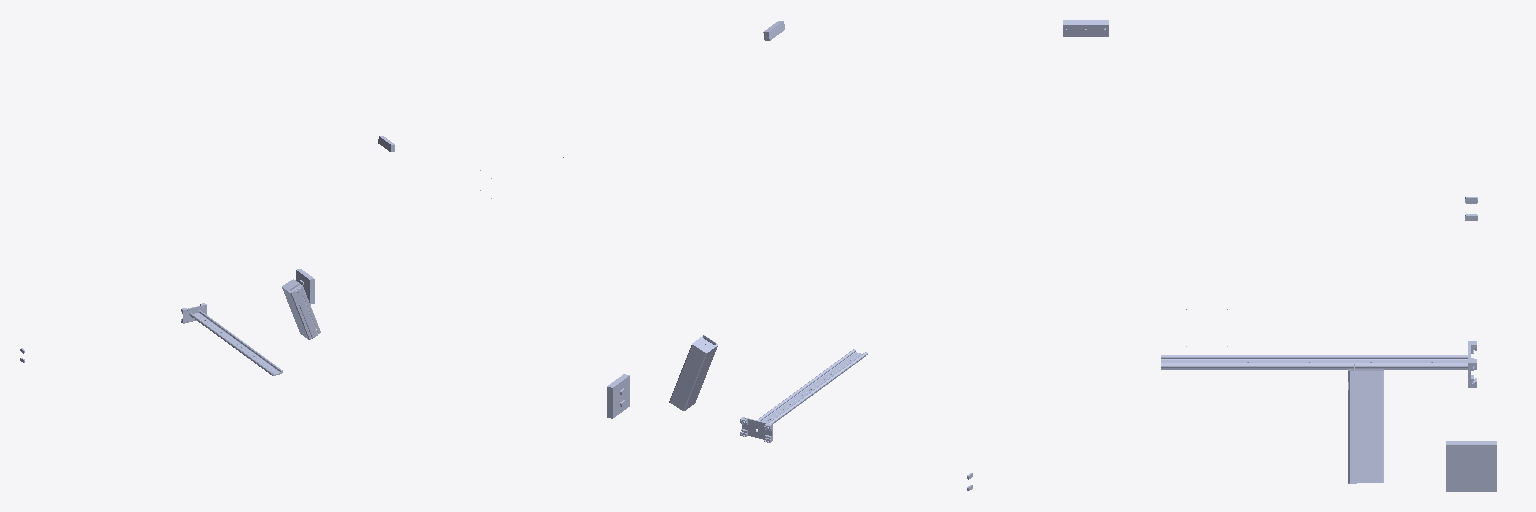
--- Facts derived from the render (not from the file) ---
3 views of the same robot in one strip: view 1: azimuth 30°, elevation 25°; view 2: azimuth 150°, elevation 25°; view 3: azimuth 270°, elevation 25° (orthographic).
Model robo_description with 21 links and 20 joints (2 revolute, 2 prismatic, 16 fixed), rooted at base_link, posed all joints at 0 but 1 set to mid-range because 0 is outside their limits (joint5 = 0.4665).
Links seen in each view (by area): view 1: link2, link5; view 2: link2, link5, base_link; view 3: link2, link5, base_link, camera_link.
Boxes of the visible links, x1,y1,x2,y2 form: link2: (181,303,282,375); link5: (282,279,320,339); link2: (740,349,867,442); link5: (669,335,717,410); base_link: (607,374,972,490); link2: (1161,341,1476,387); link5: (1348,364,1383,483); base_link: (1446,197,1496,491); camera_link: (1063,20,1108,36).
Size in the robot's own frame: 1.65 by 0.8489 by 1 metres.
Meshes: 6 distinct files referenced, 4 mesh visuals loaded (4 binary STL); not drawn: 2 (reference not matched to a file when rendering).

URDF robot description (robo_description):
<?xml version="1.0" encoding="utf-8"?>
<!-- This URDF was automatically created by SolidWorks to URDF Exporter! Originally created by Stephen Brawner ([email redacted]) 
     Commit Version: 1.6.0-4-g7f85cfe  Build Version: 1.6.7995.38578
     For more information, please see http://wiki.ros.org/sw_urdf_exporter -->
<robot
  name="robo_description">
  <link
    name="base_link">
    <inertial>
      <origin
        xyz="-5.13826234849775E-17 -1.63904738952765E-17 0.339473684210526"
        rpy="0 0 0" />
      <mass
        value="19" />
      <inertia
        ixx="2.34956140350877"
        ixy="1.11311423041845E-17"
        ixz="3.69215798456927E-16"
        iyy="2.34956140350877"
        iyz="-7.44985984223617E-17"
        izz="0.151666666666667" />
    </inertial>
    <visual>
      <origin
        xyz="0 0 0"
        rpy="0 0 0" />
      <geometry>
        <mesh
          filename="package://robo_description/meshes/base_link.STL" />
      </geometry>
      <material
        name="">
        <color
          rgba="0.792156862745098 0.819607843137255 0.933333333333333 1" />
      </material>
    </visual>
    <collision>
      <origin
        xyz="0 0 0"
        rpy="0 0 0" />
      <geometry>
        <mesh
          filename="package://robo_description/meshes/base_link.STL" />
      </geometry>
    </collision>
  </link>
  <link
    name="link2">
    <inertial>
      <origin
        xyz="-0.001261 -0.2858 0.14572"
        rpy="0 0 0" />
      <mass
        value="3.13280329013611" />
      <inertia
        ixx="0.0169430024052603"
        ixy="-0.00280446630124331"
        ixz="0.0223183329111622"
        iyy="0.162057682822749"
        iyz="0.000505061238040558"
        izz="0.161640952999751" />
    </inertial>
    <visual>
      <origin
        xyz="0 0 -1"
        rpy="0 0 0" />
      <geometry>
        <mesh
          filename="package://robo_description/meshes/link2.STL" />
      </geometry>
      <material
        name="">
        <color
          rgba="0.792156862745098 0.819607843137255 0.933333333333333 1" />
      </material>
    </visual>
    <collision>
      <origin
        xyz="0 0 0"
        rpy="0 0 0" />
      <geometry>
        <mesh
          filename="package://robo_description/meshes/link2.STL" />
      </geometry>
    </collision>
  </link>
  <joint
    name="joint2"
    type="prismatic">
    <origin
      xyz="0.0 0 1"
      rpy="0 0 0" />
    <parent
      link="base_link" />
    <child
      link="link2" />
    <axis
      xyz="0 0 1" />
    <limit
      lower="0"
      upper="1"
      effort="0"
      velocity="0" />
  </joint>
  <link
    name="link4">
    <inertial>
      <origin
        xyz="-0.000438554587764983 0.0620490502692163 -0.172885898172371"
        rpy="0 0 0" />
      <mass
        value="0.162146723185788" />
      <inertia
        ixx="0.00336616371871891"
        ixy="1.46811284877534E-06"
        ixz="-3.57096843523024E-06"
        iyy="0.00312866852492012"
        iyz="0.00048231220150353"
        izz="0.000338308018448651" />
    </inertial>
    <visual>
      <origin
        xyz="-0.4665 0 -0.790"
        rpy="0 0 0" />
      <geometry>
        <mesh
          filename="package://robo_description/meshes/link4.STL" />
      </geometry>
      <material
        name="">
        <color
          rgba="0.792156862745098 0.819607843137255 0.933333333333333 1" />
      </material>
    </visual>
    <collision>
      <origin
        xyz="0 0 0"
        rpy="0 0 0" />
      <geometry>
        <mesh
          filename="package://robo_description/meshes/link4.STL" />
      </geometry>
    </collision>
  </link>
  <joint
    name="joint4"
    type="revolute">
    <origin
      xyz="0.46904 0 -0.21"
      rpy="0 0 0" />
    <parent
      link="link2" />
    <child
      link="link4" />
    <axis
      xyz="0 0 1" />
    <limit
      lower="-2.9671"
      upper="2.9671"
      effort="0"
      velocity="0" />
  </joint>
  <link
    name="link3">
    <inertial>
      <origin
        xyz="-0.0832189655707039 -0.0894795892974461 -0.00179630042130147"
        rpy="0 0 0" />
      <mass
        value="1.71811977068641" />
      <inertia
        ixx="0.00948440583507882"
        ixy="-0.00159429497921182"
        ixz="0.00308193362516688"
        iyy="0.035537875179704"
        iyz="0.000648421421055908"
        izz="0.0305779645247813" />
    </inertial>
    <visual>
      <origin
        xyz="-0.468545 -0.078 -0.43528"
        rpy="0 0 0" />
      <geometry>
        <mesh
          filename="package://robo_description/meshes/link3.STL" />
      </geometry>
      <material
        name="">
        <color
          rgba="0.792156862745098 0.819607843137255 0.933333333333333 1" />
      </material>
    </visual>
    <collision>
      <origin
        xyz="0 0 0"
        rpy="0 0 0" />
      <geometry>
        <mesh
          filename="package://robo_description/meshes/link3.STL" />
      </geometry>
    </collision>
  </link>
  <joint
    name="joint3"
    type="revolute">
    <origin
      xyz="0.0 0.077824 -0.35472"
      rpy="0 0 0" />
    <parent
      link="link4" />
    <child
      link="link3" />
    <axis
      xyz="0 1 0" />
    <limit
      lower="-1.5708"
      upper="1.5708"
      effort="0"
      velocity="0" />
  </joint>
  <link
    name="yanthra_link">
    <inertial>
      <origin
        xyz="-0.0832189655707036 -0.0114795892974462 -0.00179630042130124"
        rpy="0 0 0" />
      <mass
        value="1.71811977068641" />
      <inertia
        ixx="0.00948440583507882"
        ixy="-0.00159429497921182"
        ixz="0.0030819336251669"
        iyy="0.035537875179704"
        iyz="0.000648421421055907"
        izz="0.0305779645247813" />
    </inertial>
    <visual>
      <origin
        xyz="0 0 0"
        rpy="0 0 0" />
      <geometry>
        <box size="0.001 0.001 0.001"/>
      </geometry>
      <material
        name="">
        <color
          rgba="0.792156862745098 0.819607843137255 0.933333333333333 1" />
      </material>
    </visual>
    <collision>
      <origin
        xyz="0 0 0"
        rpy="0 0 0" />
      <geometry>
        <box size="0.001 0.001 0.001"/>
      </geometry>
    </collision>
  </link>
  <joint
    name="yanthra_joint"
    type="fixed">
    <origin
      xyz="0 -0.078 0"
      rpy="0 0 0" />
    <parent
      link="link3" />
    <child
      link="yanthra_link" />
    <axis
      xyz="0 0 0" />
  </joint>
  <link
    name="link5_origin">
    <inertial>
      <origin
        xyz="-0.00874999999999998 0.0375 -0.00507843424240889"
        rpy="0 0 0" />
      <mass
        value="0.0438088883035136" />
      <inertia
        ixx="3.24913884800222E-05"
        ixy="1.33063310958086E-21"
        ixz="-8.470329472543E-22"
        iyy="3.99574478810853E-06"
        iyz="-3.38875204913906E-21"
        izz="3.07317223657389E-05" />
    </inertial>
    <visual>
      <origin
        xyz="0 0 0"
        rpy="0 0 0" />
      <geometry>
        <box size="0.001 0.001 0.001"/>
      </geometry>
      <material
        name="">
        <color
          rgba="0.792156862745098 0.819607843137255 0.933333333333333 1" />
      </material>
    </visual>
    <collision>
      <origin
        xyz="0 0 0"
        rpy="0 0 0" />
      <geometry>
        <box size="0.001 0.001 0.001"/>
      </geometry>
    </collision>
  </link>
  <joint
    name="link5_origin_joint"
    type="fixed">
    <origin
      xyz="0 0 0.0"
      rpy="0 0 0" />
    <parent	
      link="yanthra_link" />
    <child
      link="link5_origin" />
    <axis
      xyz="0 0 0" />
  </joint>
  <link
    name="link5">
    <inertial>
      <origin
        xyz="0.108132413871145 2.08242781028485E-06 0.00569147154470495"
        rpy="0 0 0" />
      <mass
        value="0.277404400359573" />
      <inertia
        ixx="0.00021628976171093"
        ixy="1.27900715148446E-06"
        ixz="-0.000135093187106687"
        iyy="0.00359200319167061"
        iyz="-8.36237914028336E-08"
        izz="0.00358633509004247" />
    </inertial>
    <visual>
      <origin
        xyz="-0.715545 0 -0.43528"
        rpy="0 0 0" />
      <geometry>
        <mesh
          filename="package://robo_description/meshes/link5.STL" />
      </geometry>
      <material
        name="">
        <color
          rgba="0.792156862745098 0.819607843137255 0.933333333333333 1" />
      </material>
    </visual>
    <collision>
      <origin
        xyz="0 0 0"
        rpy="0 0 0" />
      <geometry>
        <mesh
          filename="package://robo_description/meshes/link5.STL" />
      </geometry>
    </collision>
  </link>
  <joint
    name="joint5"
    type="prismatic">
    <origin
      xyz="0.0 0 0"
      rpy="0 0 0" />
    <parent
      link="link5_origin" />
    <child
      link="link5" />
    <axis
      xyz="1 0 0" />
    <limit
      lower="0.247"
      upper="0.686"
      effort="0"
      velocity="0" />
  </joint>
  <link
    name="ee_link">
    <inertial>
      <origin
        xyz="-0.00874999999999998 0.0375 -0.00507843424240889"
        rpy="0 0 0" />
      <mass
        value="0.0438088883035136" />
      <inertia
        ixx="3.24913884800222E-05"
        ixy="1.33063310958086E-21"
        ixz="-8.470329472543E-22"
        iyy="3.99574478810853E-06"
        iyz="-3.38875204913906E-21"
        izz="3.07317223657389E-05" />
    </inertial>
    <visual>
      <origin
        xyz="0 0 0"
        rpy="0 0 0" />
      <geometry>
        <box size="0.001 0.001 0.001"/>
      </geometry>
      <material
        name="">
        <color
          rgba="0.792156862745098 0.819607843137255 0.933333333333333 1" />
      </material>
    </visual>
    <collision>
      <origin
        xyz="0 0 0"
        rpy="0 0 0" />
      <geometry>
        <box size="0.001 0.001 0.001"/>
      </geometry>
    </collision>
  </link>
  <joint
    name="ee_joint"
    type="fixed">
    <origin
      xyz="-0.085 0 0"
      rpy="0 0 0" />
    <parent	
      link="link5" />
    <child
      link="ee_link" />
    <axis
      xyz="0 0 0" />
  </joint>
  <link
    name="aruco_marker_link">
    <inertial>
      <origin
        xyz="-0.00874999999999998 0.0375 -0.00507843424240889"
        rpy="0 0 0" />
      <mass
        value="0.0438088883035136" />
      <inertia
        ixx="3.24913884800222E-05"
        ixy="1.33063310958086E-21"
        ixz="-8.470329472543E-22"
        iyy="3.99574478810853E-06"
        iyz="-3.38875204913906E-21"
        izz="3.07317223657389E-05" />
    </inertial>
    <visual>
      <origin
        xyz="0 0 0"
        rpy="0 0 0" />
      <geometry>
        <box size="0.001 0.001 0.001"/>
      </geometry>
      <material
        name="">
        <color
          rgba="0.792156862745098 0.819607843137255 0.933333333333333 1" />
      </material>
    </visual>
    <collision>
      <origin
        xyz="0 0 0"
        rpy="0 0 0" />
      <geometry>
        <box size="0.001 0.001 0.001"/>
      </geometry>
    </collision>
  </link>
  <joint
    name="aruco_joint"
    type="fixed">
    <origin
      xyz="0.0 0 0.08"
      rpy="0 0 0" />
    <parent	
      link="ee_link" />
    <child
      link="aruco_marker_link" />
    <axis
      xyz="0 0 0" />
  </joint>
  <link
    name="aruco_link_1">
    <inertial>
      <origin
        xyz="-0.00874999999999998 0.0375 -0.00507843424240889"
        rpy="0 0 0" />
      <mass
        value="0.0438088883035136" />
      <inertia
        ixx="3.24913884800222E-05"
        ixy="1.33063310958086E-21"
        ixz="-8.470329472543E-22"
        iyy="3.99574478810853E-06"
        iyz="-3.38875204913906E-21"
        izz="3.07317223657389E-05" />
    </inertial>
    <visual>
      <origin
        xyz="0 0 0"
        rpy="0 0 0" />
      <geometry>
        <box size="0.001 0.001 0.001"/>
      </geometry>
      <material
        name="">
        <color
          rgba="0.792156862745098 0.819607843137255 0.933333333333333 1" />
      </material>
    </visual>
    <collision>
      <origin
        xyz="0 0 0"
        rpy="0 0 0" />
      <geometry>
        <box size="0.001 0.001 0.001"/>
      </geometry>
    </collision>
  </link>
  <joint
    name="aruco_joint_1"
    type="fixed">
    <origin
      xyz="0.0 0.04 0.04"
      rpy="0 0 0" />
    <parent	
      link="aruco_marker_link" />
    <child
      link="aruco_link_1" />
    <axis
      xyz="0 0 0" />
  </joint>
  <link
    name="aruco_link_2">
    <inertial>
      <origin
        xyz="-0.00874999999999998 0.0375 -0.00507843424240889"
        rpy="0 0 0" />
      <mass
        value="0.0438088883035136" />
      <inertia
        ixx="3.24913884800222E-05"
        ixy="1.33063310958086E-21"
        ixz="-8.470329472543E-22"
        iyy="3.99574478810853E-06"
        iyz="-3.38875204913906E-21"
        izz="3.07317223657389E-05" />
    </inertial>
    <visual>
      <origin
        xyz="0 0 0"
        rpy="0 0 0" />
      <geometry>
        <box size="0.001 0.001 0.001"/>
      </geometry>
      <material
        name="">
        <color
          rgba="0.792156862745098 0.819607843137255 0.933333333333333 1" />
      </material>
    </visual>
    <collision>
      <origin
        xyz="0 0 0"
        rpy="0 0 0" />
      <geometry>
        <box size="0.001 0.001 0.001"/>
      </geometry>
    </collision>
  </link>
  <joint
    name="aruco_joint_2"
    type="fixed">
    <origin
      xyz="0.0 -0.04 0.04"
      rpy="0 0 0" />
    <parent	
      link="aruco_marker_link" />
    <child
      link="aruco_link_2" />
    <axis
      xyz="0 0 0" />
  </joint>
  <link
    name="aruco_link_3">
    <inertial>
      <origin
        xyz="-0.00874999999999998 0.0375 -0.00507843424240889"
        rpy="0 0 0" />
      <mass
        value="0.0438088883035136" />
      <inertia
        ixx="3.24913884800222E-05"
        ixy="1.33063310958086E-21"
        ixz="-8.470329472543E-22"
        iyy="3.99574478810853E-06"
        iyz="-3.38875204913906E-21"
        izz="3.07317223657389E-05" />
    </inertial>
    <visual>
      <origin
        xyz="0 0 0"
        rpy="0 0 0" />
      <geometry>
        <box size="0.001 0.001 0.001"/>
      </geometry>
      <material
        name="">
        <color
          rgba="0.792156862745098 0.819607843137255 0.933333333333333 1" />
      </material>
    </visual>
    <collision>
      <origin
        xyz="0 0 0"
        rpy="0 0 0" />
      <geometry>
        <box size="0.001 0.001 0.001"/>
      </geometry>
    </collision>
  </link>
  <joint
    name="aruco_joint_3"
    type="fixed">
    <origin
      xyz="0.0 0.04 -0.04"
      rpy="0 0 0" />
    <parent	
      link="aruco_marker_link" />
    <child
      link="aruco_link_3" />
    <axis
      xyz="0 0 0" />
  </joint>
  <link
    name="aruco_link_4">
    <inertial>
      <origin
        xyz="-0.00874999999999998 0.0375 -0.00507843424240889"
        rpy="0 0 0" />
      <mass
        value="0.0438088883035136" />
      <inertia
        ixx="3.24913884800222E-05"
        ixy="1.33063310958086E-21"
        ixz="-8.470329472543E-22"
        iyy="3.99574478810853E-06"
        iyz="-3.38875204913906E-21"
        izz="3.07317223657389E-05" />
    </inertial>
    <visual>
      <origin
        xyz="0 0 0"
        rpy="0 0 0" />
      <geometry>
        <box size="0.001 0.001 0.001"/>
      </geometry>
      <material
        name="">
        <color
          rgba="0.792156862745098 0.819607843137255 0.933333333333333 1" />
      </material>
    </visual>
    <collision>
      <origin
        xyz="0 0 0"
        rpy="0 0 0" />
      <geometry>
        <box size="0.001 0.001 0.001"/>
      </geometry>
    </collision>
  </link>
  <joint
    name="aruco_joint_4"
    type="fixed">
    <origin
      xyz="0.0 -0.04 -0.04"
      rpy="0 0 0" />
    <parent	
      link="aruco_marker_link" />
    <child
      link="aruco_link_4" />
    <axis
      xyz="0 0 0" />
  </joint>
  <link
    name="link7">
    <inertial>
      <origin
        xyz="-0.00129487747822488 -0.0114795892973884 0.11996423535158"
        rpy="0 0 0" />
      <mass
        value="1.71811977068641" />
      <inertia
        ixx="0.0113386071435481"
        ixy="-0.00171490439294498"
        ixz="-0.00672100859249017"
        iyy="0.0355378751797041"
        iyz="-0.0001460470577602"
        izz="0.0287237632163119" />
    </inertial>
    <visual>
      <origin
        xyz="0 0 0"
        rpy="0 0 0" />
      <geometry>
        <box size="0.001 0.001 0.001"/>
      </geometry>
      <material
        name="">
        <color
          rgba="0.792156862745098 0.819607843137255 0.933333333333333 1" />
      </material>
    </visual>
    <collision>
      <origin
        xyz="0 0 0"
        rpy="0 0 0" />
      <geometry>
        <box size="0.001 0.001 0.001"/>
      </geometry>
    </collision>
  </link>
  <joint
    name="joint7"
    type="fixed">
    <origin
      xyz="-0.13653 0 -0.10927"
      rpy="0 0.47124 0" />
    <parent
      link="yanthra_link" />
    <child
      link="link7" />
    <axis
      xyz="0 0 0" />
  </joint>
  <link
    name="camera_mount_link">
    <inertial>
      <origin
        xyz="-0.00129487747822488 -0.0114795892973883 0.11996423535158"
        rpy="0 0 0" />
      <mass
        value="1.71811977068641" />
      <inertia
        ixx="0.0113386071435481"
        ixy="-0.00171490439294498"
        ixz="-0.00672100859249018"
        iyy="0.0355378751797041"
        iyz="-0.000146047057760202"
        izz="0.0287237632163119" />
    </inertial>
    <visual>
      <origin
        xyz="0 0 0"
        rpy="0 0 0" />
      <geometry>
        <box size="0.001 0.001 0.001"/>
      </geometry>
      <material
        name="">
        <color
          rgba="0.792156862745098 0.819607843137255 0.933333333333333 1" />
      </material>
    </visual>
    <collision>
      <origin
        xyz="0 0 0"
        rpy="0 0 0" />
      <geometry>
        <box size="0.001 0.001 0.001"/>
      </geometry>
    </collision>
  </link>
     <!--Realsense Camera depth is 20 mm from back to glass, But the depth start point(GROUND ZERO REFERENCE i.e depth is Zero) is 1.1 mm behind glass-->
     <!--Camera thickness-Zero Ref +Plate thick=20-1.1+2 = 20.09 mm -->
     <!-- xyz="0.0209 -0.0375 0"-->
  <joint
    name="camera_mount_joint"
    type="fixed">
    <origin
      xyz="0.02090 -0.0375 0"
      rpy="-1.5708 0 -1.5708" />
    <parent
      link="link7" />
    <child
      link="camera_mount_link" />
    <axis
      xyz="0 0 0" />
  </joint>
  <link
    name="virtual_cam_link">
    <inertial>
      <origin
        xyz="-0.00874999999999998 0.0375 -0.00507843424240889"
        rpy="0 0 0" />
      <mass
        value="0.0438088883035136" />
      <inertia
        ixx="3.24913884800222E-05"
        ixy="1.33063310958086E-21"
        ixz="-8.470329472543E-22"
        iyy="3.99574478810853E-06"
        iyz="-3.38875204913906E-21"
        izz="3.07317223657389E-05" />
    </inertial>
    <visual>
      <origin
        xyz="0 0 0"
        rpy="0 0 0" />
      <geometry>
        <box size="0.001 0.001 0.001"/>
      </geometry>
      <material
        name="">
        <color
          rgba="0.792156862745098 0.819607843137255 0.933333333333333 1" />
      </material>
    </visual>
    <collision>
      <origin
        xyz="0 0 0"
        rpy="0 0 0" />
      <geometry>
        <box size="0.001 0.001 0.001"/>
      </geometry>
    </collision>
  </link>
  <joint
    name="virtual_cam_link_joint"
    type="fixed">
    <origin
      xyz="0 0 0"
      rpy="0 0 0" />
    <parent	
      link="camera_mount_link" />
    <child
      link="virtual_cam_link" />
    <axis
      xyz="0 0 0" />
  </joint>

  <link
    name="camera_link">
    <inertial>
      <origin
        xyz="-0.00874999999999998 0.0375 -0.00507843424240889"
        rpy="0 0 0" />
      <mass
        value="0.0438088883035136" />
      <inertia
        ixx="3.24913884800222E-05"
        ixy="1.33063310958086E-21"
        ixz="-8.470329472543E-22"
        iyy="3.99574478810853E-06"
        iyz="-3.38875204913906E-21"
        izz="3.07317223657389E-05" />
    </inertial>
    <visual>
      <origin
        xyz="-0.03768 -0.425 -0.175"
        rpy="0 -2.04 -1.5708" />
      <geometry>
        <mesh
          filename="package://robo_description/meshes/camera_link.STL" />
      </geometry>
      <material
        name="">
        <color
          rgba="0.792156862745098 0.819607843137255 0.933333333333333 1" />
      </material>
    </visual>
    <collision>
      <origin
        xyz="0 0 0"
        rpy="0 0 0" />
      <geometry>
        <mesh
          filename="package://robo_description/meshes/camera_link.STL" />
      </geometry>
    </collision>
  </link>
  <joint
    name="camera_link_joint"
    type="fixed">
    <origin
      xyz="0.0 0 0"
      rpy="0 0 0" />
    <parent
      link="virtual_cam_link" />
    <child
      link="camera_link" />
    <axis
      xyz="0 0 0" />
  </joint>

  <link name="camera_depth_frame">

    <visual>

    <origin xyz="0 0 0" rpy="0 0 0" />

      <geometry>

        <box size="0.001 0.001 0.001"/>

      </geometry>

    </visual>

  </link>

  <joint name="camera_depth_frame_joint" type="fixed">

    <origin rpy="0 0 0" xyz="0 0 0"/>

    <parent link="camera_link"/>

    <child link="camera_depth_frame"/>

  </joint>

  <link name="camera_depth_optical_frame">

    <visual>

    <origin xyz="0 0 0" rpy="0 0 0" />

      <geometry>

        <box size="0.001 0.001 0.001"/>

      </geometry>

    </visual>

  </link>

  <joint name="camera_depth_optical_frame_joint" type="fixed">

   <origin rpy="0 0 0" xyz="0 0 0"/>

   <parent link="camera_depth_frame"/>

   <child link="camera_depth_optical_frame"/>

  </joint>

  <link name="camera_color_frame">

    <visual>

    <origin xyz="0 0 0" rpy="0 0 0" />

      <geometry>

        <box size="0.001 0.001 0.001"/>

      </geometry>

    </visual>

  </link>

  <joint name="camera_color_frame_joint" type="fixed">

    <origin rpy="0 0 0" xyz="0 0 0"/>

    <parent link="camera_link"/>

    <child link="camera_color_frame"/>

  </joint>

  <link name="camera_color_optical_frame">

    <visual>

    <origin xyz="0 0 0" rpy="0 0 0" />

      <geometry>

        <box size="0.001 0.001 0.001"/>

      </geometry>

    </visual>

  </link>

  <joint name="camera_color_optical_frame_joint" type="fixed">

   <origin rpy="0 0 0" xyz="0 0 0"/>

   <parent link="camera_color_frame"/>

   <child link="camera_color_optical_frame"/>

  </joint>
  <gazebo reference="stand">

    <material>Gazebo/Grey</material>

  </gazebo>

  <gazebo reference="link3">

    <material>Gazebo/Green</material>

  </gazebo>

  <gazebo reference="link4">

    <material>Gazebo/Red</material>

  </gazebo>

  <gazebo reference="link5">

    <material>Gazebo/Green</material>

  </gazebo>

  <gazebo reference="link9">

    <material>Gazebo/Red</material>

  </gazebo>

  <gazebo reference="link6">

    <material>Gazebo/White</material>

  </gazebo>

  <transmission name="tran1">

    <type>transmission_interface/SimpleTransmission</type>

    <joint name="joint3">

      <hardwareInterface>hardware_interface/PositionJointInterface</hardwareInterface>

    </joint>

    <actuator name="motor1">

      <hardwareInterface>hardware_interface/PositionJointInterface</hardwareInterface>

      <mechanicalReduction>1</mechanicalReduction>

    </actuator>

  </transmission>

  <transmission name="tran1">

    <type>transmission_interface/SimpleTransmission</type>

    <joint name="joint4">

      <hardwareInterface>hardware_interface/PositionJointInterface</hardwareInterface>

    </joint>

    <actuator name="motor1">

      <hardwareInterface>hardware_interface/PositionJointInterface</hardwareInterface>

      <mechanicalReduction>1</mechanicalReduction>

    </actuator>

  </transmission>

  <transmission name="tran1">

    <type>transmission_interface/SimpleTransmission</type>

    <joint name="joint5">

      <hardwareInterface>hardware_interface/PositionJointInterface</hardwareInterface>

    </joint>

    <actuator name="motor1">

      <hardwareInterface>hardware_interface/PositionJointInterface</hardwareInterface>

      <mechanicalReduction>1</mechanicalReduction>

    </actuator>

  </transmission>

  <gazebo>

    <plugin filename="libgazebo_ros_control.so" name="gazebo_ros_control">

      <robotNameSpace>/arm_controller</robotNameSpace>

    </plugin>

  </gazebo>

</robot>
